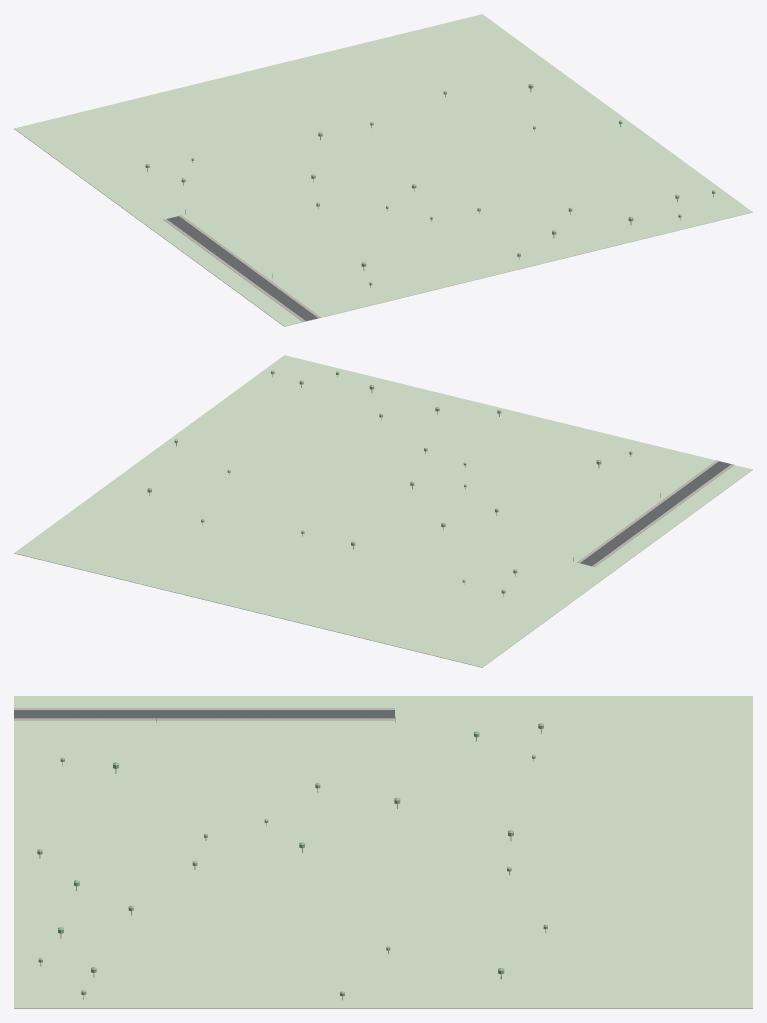
File: chunk_4_0_low.glb
3 views of the same model, one above another, from view 1: azimuth 30°, elevation 25°; view 2: azimuth 150°, elevation 25°; view 3: azimuth 270°, elevation 25° (orthographic). The views are drawn at different scales.
Parts seen in each view (by area): view 1: city_grass, city_world_asphalt, city_world_sidewalk; view 2: city_grass, city_world_asphalt, city_world_sidewalk; view 3: city_grass, city_world_asphalt, city_world_sidewalk, city_foliage_dark.
Boxes of the visible parts, x1,y1,x2,y2 form: city_grass: (14,14,752,326); city_world_asphalt: (167,216,317,320); city_world_sidewalk: (163,215,320,321); city_grass: (14,355,752,667); city_world_asphalt: (580,461,731,566); city_world_sidewalk: (577,460,734,566); city_grass: (14,696,752,1008); city_world_asphalt: (14,710,394,718); city_world_sidewalk: (14,708,394,720); city_foliage_dark: (37,723,547,996).
Bounding box in the file's own units: 512 × 9.36 × 512.
